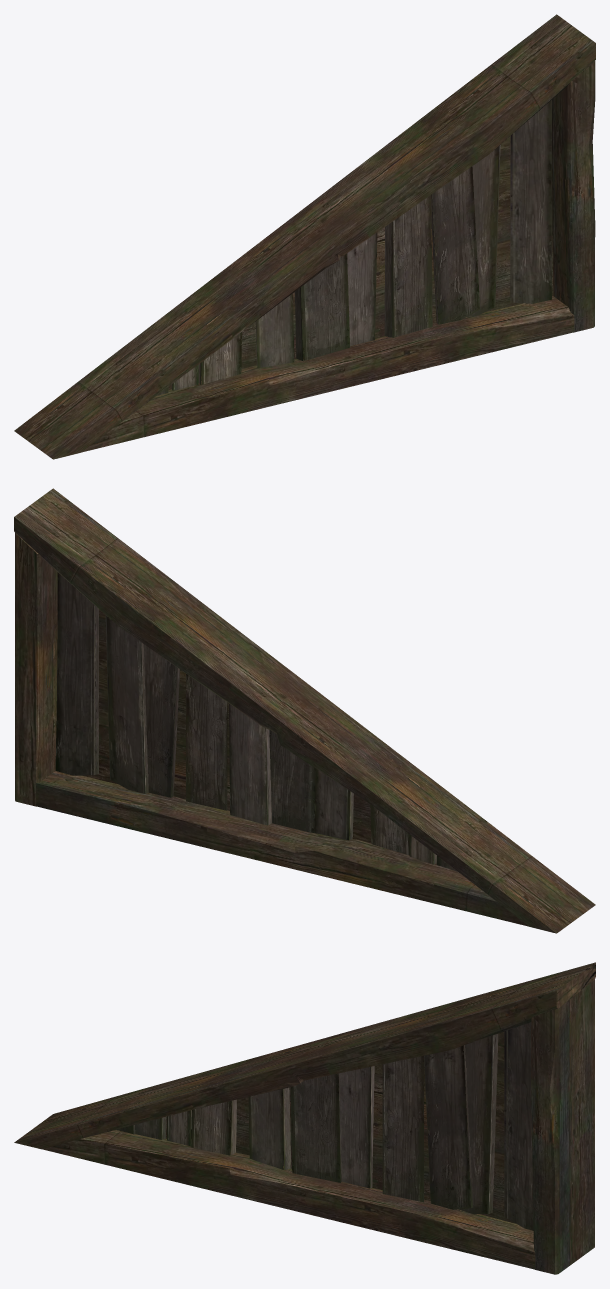
3 views of the same model, one above another, from view 1: azimuth 30°, elevation 25°; view 2: azimuth 150°, elevation 25°; view 3: azimuth 330°, elevation 25° (orthographic).
Parts seen in each view (by area): view 1: SM_BB_T1_Wall_Slanted_Shallow_Large_LOD0; view 2: SM_BB_T1_Wall_Slanted_Shallow_Large_LOD0; view 3: SM_BB_T1_Wall_Slanted_Shallow_Large_LOD0.
Boxes of the visible parts, x1,y1,x2,y2 form: SM_BB_T1_Wall_Slanted_Shallow_Large_LOD0: (14,14,595,459); SM_BB_T1_Wall_Slanted_Shallow_Large_LOD0: (14,488,595,933); SM_BB_T1_Wall_Slanted_Shallow_Large_LOD0: (14,962,595,1274).
Size of the model in its own units: 3 by 1.5 by 0.3774.
2 materials, 2 textured.
